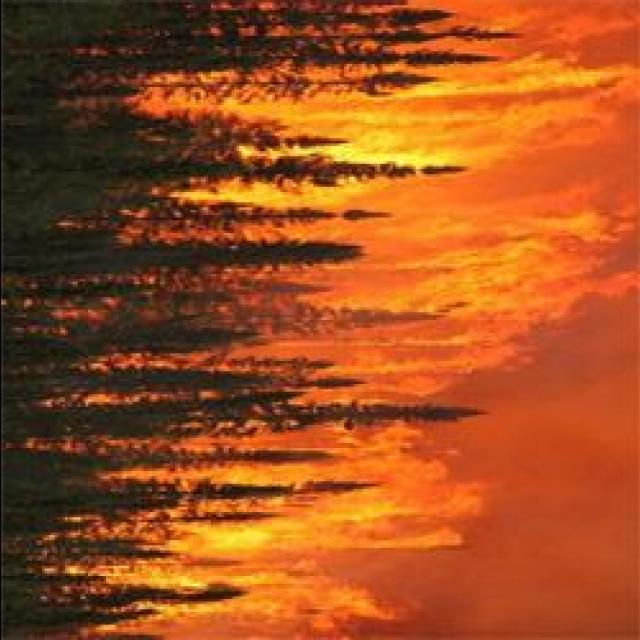fire: (97, 490, 441, 636), (220, 44, 616, 170), (393, 202, 608, 336)
smoke: (490, 374, 640, 639)
